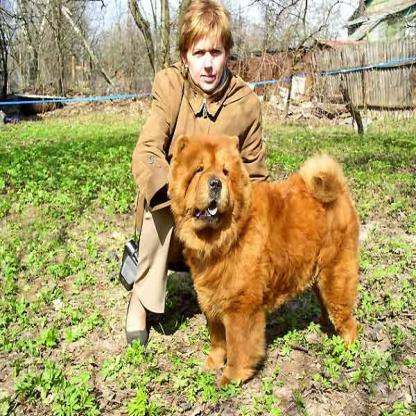chow: (166, 130, 362, 391)
